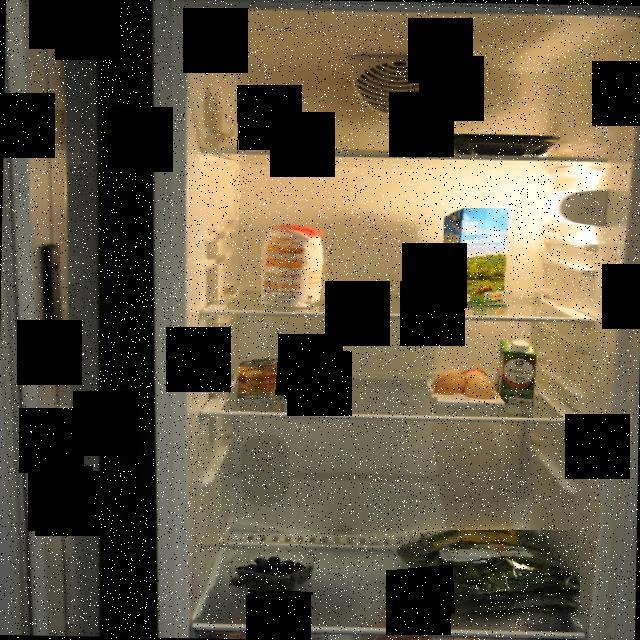blueberries: (231, 548, 314, 596)
corn: (236, 358, 288, 406)
eggs: (428, 364, 502, 398)
heavy_cream: (496, 336, 538, 407)
milk: (444, 208, 516, 309)
potato: (236, 114, 336, 150)
spinach: (390, 530, 580, 620)
sugar: (261, 220, 332, 312)
